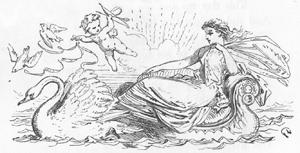bird: (16, 69, 116, 141), (6, 41, 42, 74), (40, 24, 69, 48)
